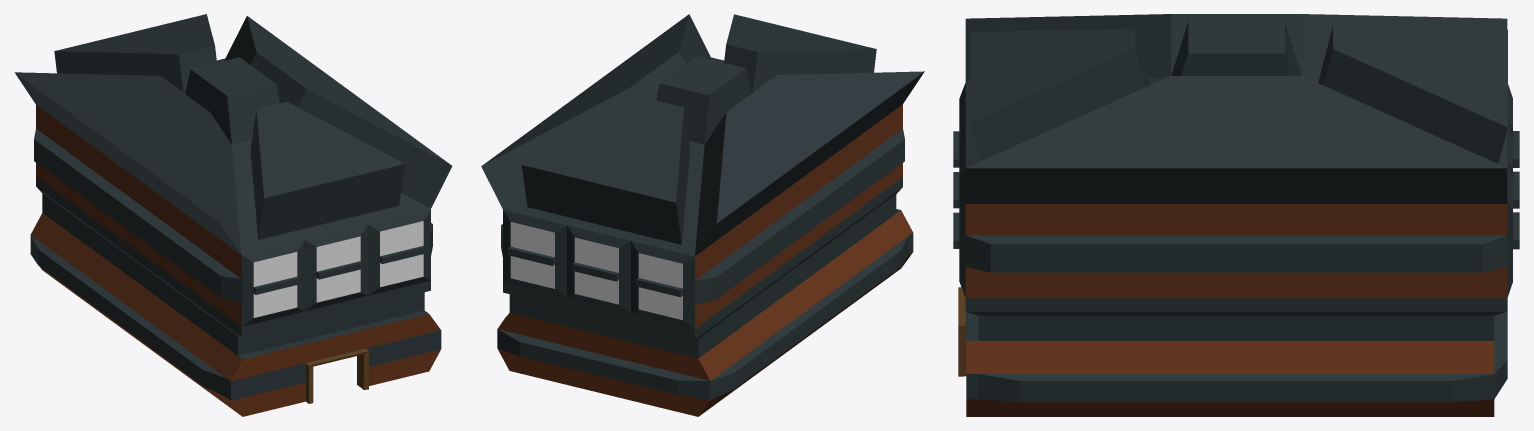
Rendered from Farmer's Restaurant.fbx.
The picture shows the model from 3 angles, left to right: view 1: azimuth 30°, elevation 25°; view 2: azimuth 150°, elevation 25°; view 3: azimuth 270°, elevation 25°; orthographic projection. The views are drawn at different scales.
Visible parts, largest first — view 1: Cube; view 2: Cube; view 3: Cube.
Part boxes in pixels (x1,y1,x2,y2): Cube: (14,14,452,416); Cube: (481,14,924,416); Cube: (953,14,1519,416).
Size of the model in its own units: 2500 by 2500 by 4000.
